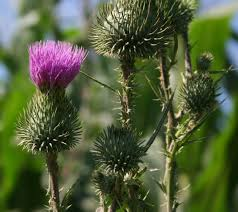bull thistle: (11, 37, 89, 157)
